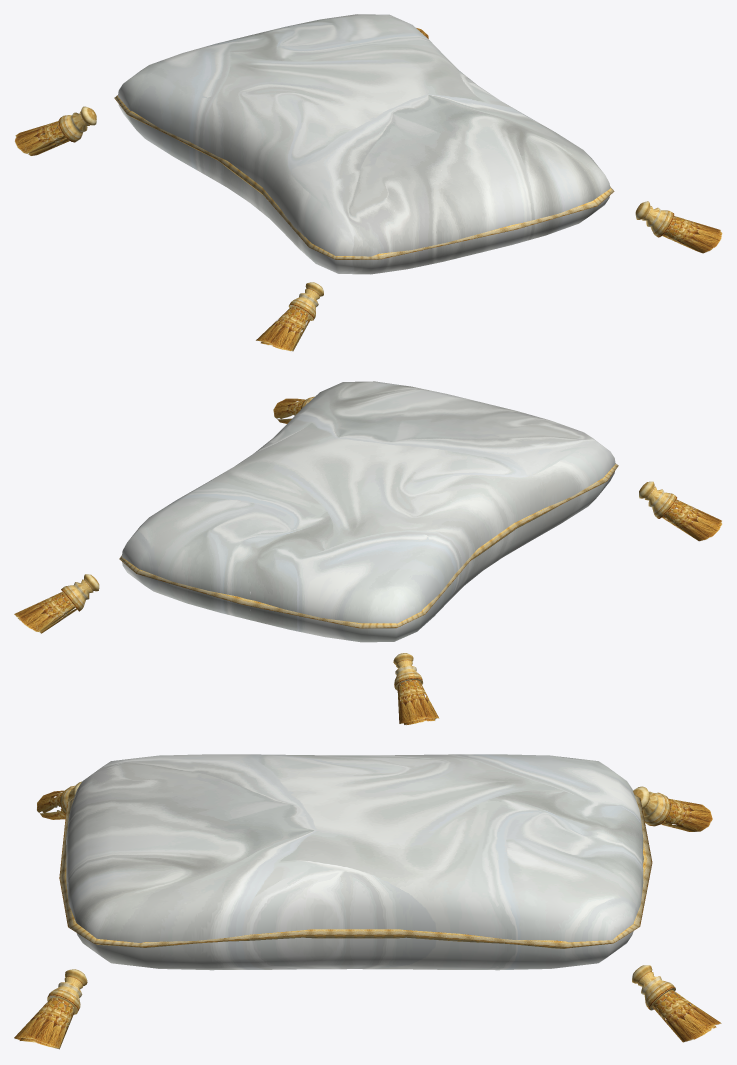
File: Pillow.glb
3 renders of one model, top to bottom at view 1: azimuth 30°, elevation 25°; view 2: azimuth 150°, elevation 25°; view 3: azimuth 270°, elevation 25°, orthographic. The views are drawn at different scales.
Visible parts, largest first — view 1: Pillow, Seams Pillow, Cone006, Cone008, Cone001, Cylinder001, Cylinder003, Cylinder002; view 2: Pillow, Seams Pillow, Cone008, Cone004, Cone001, Cylinder002, Cylinder004, Cylinder001; view 3: Pillow, Seams Pillow, Cone004, Cone006, Cone001, Cylinder001, Cylinder004, Cylinder003, Cone008.
Part boxes in pixels (x1=…): Pillow: x1=118, y1=14, x2=610, y2=274; Seams Pillow: x1=114, y1=95, x2=614, y2=259; Cone006: x1=662, y1=216, x2=722, y2=253; Cone008: x1=256, y1=306, x2=311, y2=351; Cone001: x1=14, y1=121, x2=69, y2=155; Cylinder001: x1=58, y1=106, x2=96, y2=142; Cylinder003: x1=635, y1=201, x2=674, y2=237; Cylinder002: x1=288, y1=282, x2=323, y2=320; Pillow: x1=121, y1=381, x2=615, y2=642; Seams Pillow: x1=119, y1=463, x2=618, y2=628; Cone008: x1=662, y1=499, x2=722, y2=541; Cone004: x1=14, y1=592, x2=77, y2=633; Cone001: x1=397, y1=680, x2=439, y2=723; Cylinder002: x1=639, y1=481, x2=677, y2=518; Cylinder004: x1=61, y1=574, x2=99, y2=611; Cylinder001: x1=393, y1=653, x2=422, y2=690; Pillow: x1=66, y1=754, x2=643, y2=970; Seams Pillow: x1=59, y1=794, x2=652, y2=948; Cone004: x1=652, y1=990, x2=721, y2=1042; Cone006: x1=14, y1=997, x2=74, y2=1049; Cone001: x1=661, y1=799, x2=712, y2=831; Cylinder001: x1=633, y1=786, x2=671, y2=826; Cylinder004: x1=632, y1=965, x2=675, y2=1010; Cylinder003: x1=47, y1=969, x2=87, y2=1014; Cone008: x1=37, y1=790, x2=65, y2=819.
Size of the model in its own units: 0.198 by 0.048 by 0.2276.
Materials: 4 (4 with a texture image).
